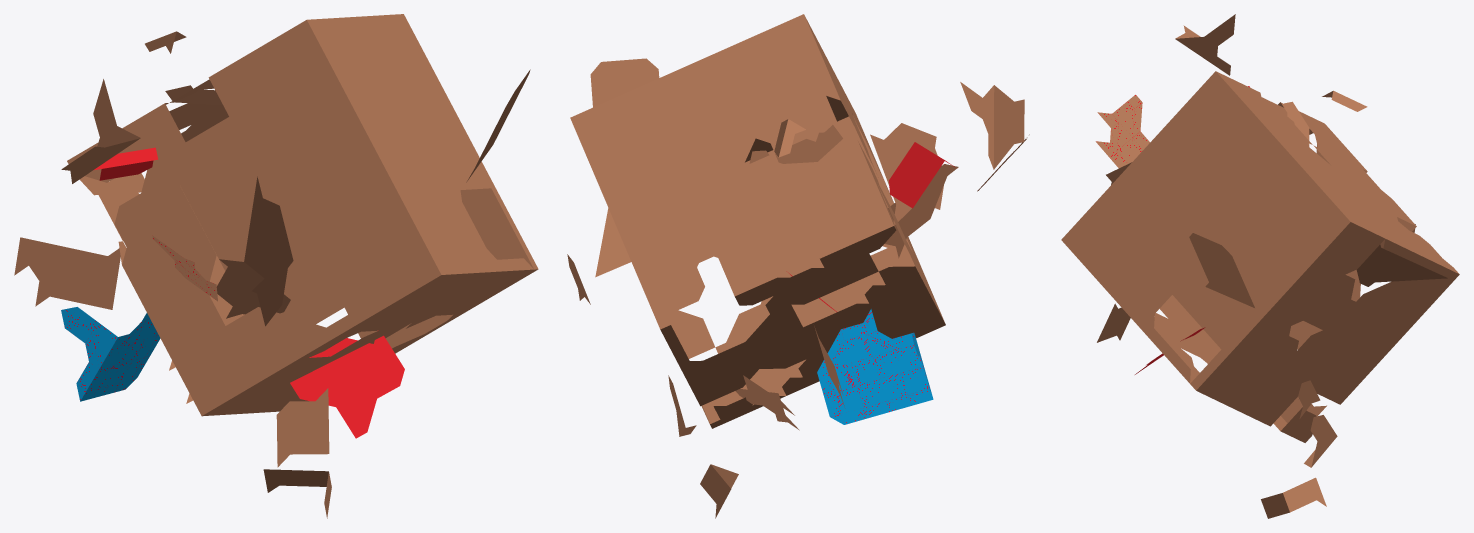
Rendered from explode_000026.obj.
3 renders of one model, left to right at view 1: azimuth 30°, elevation 25°; view 2: azimuth 150°, elevation 25°; view 3: azimuth 270°, elevation 25°, orthographic. The views are drawn at different scales.
Visible parts, largest first — view 1: Cube_Cube.001; view 2: Cube_Cube.001; view 3: Cube_Cube.001.
Part boxes in pixels (x1,y1,x2,y2): Cube_Cube.001: (14, 14, 538, 518); Cube_Cube.001: (567, 14, 1029, 518); Cube_Cube.001: (1061, 14, 1459, 518).
Bounding box in the file's own units: 3.81 × 4.06 × 3.43.
